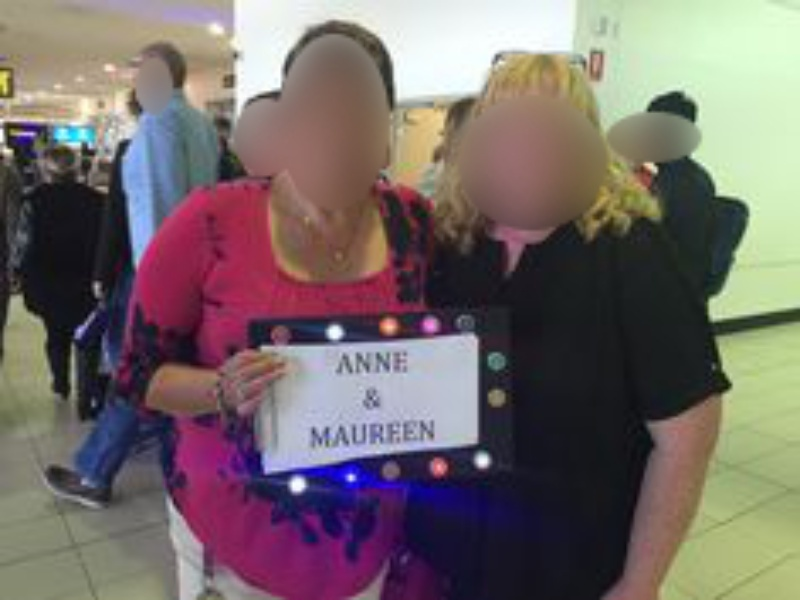text: (321, 417, 336, 448), (337, 417, 352, 448), (353, 417, 368, 448), (369, 417, 384, 448), (385, 417, 400, 448), (401, 417, 416, 448), (417, 417, 432, 448), (306, 417, 320, 448), (369, 387, 384, 411), (353, 350, 368, 373), (369, 350, 384, 373), (385, 350, 400, 373), (339, 350, 352, 373), (433, 417, 441, 448), (401, 350, 411, 373), (360, 387, 368, 411)
